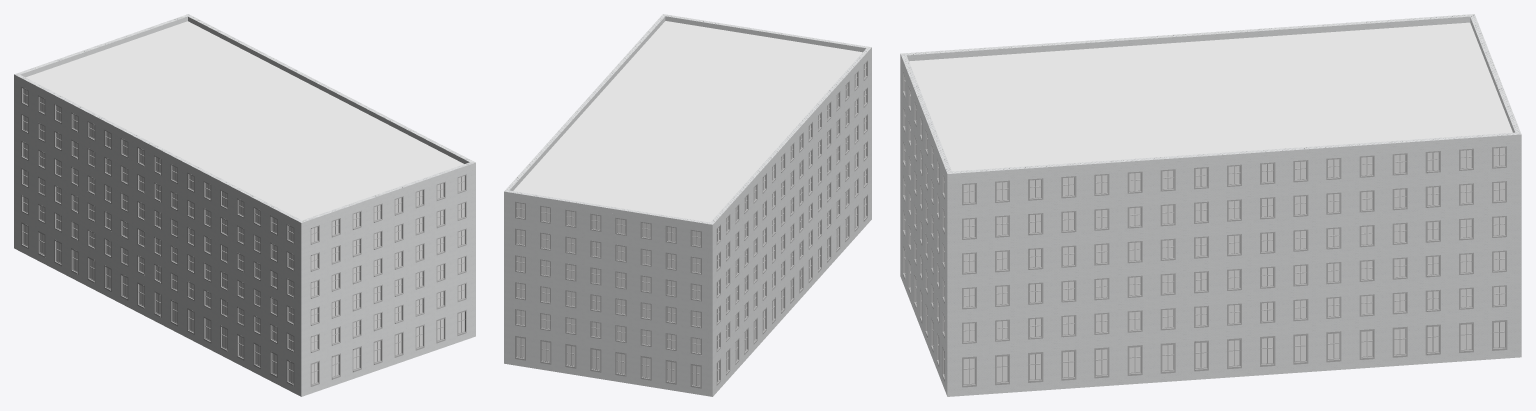
The model's file is clohc2yrv03j94p02eh3l371o_0.glb.
The picture shows the model from 3 angles, left to right: view 1: azimuth 30°, elevation 25°; view 2: azimuth 150°, elevation 25°; view 3: azimuth 270°, elevation 25°; orthographic projection. The views are drawn at different scales.
Parts seen in each view (by area): view 1: mesh_Brick, mesh_CityEnginePBRShader, mesh_Rim, mesh_Glass; view 2: mesh_Brick, mesh_CityEnginePBRShader, mesh_Rim, mesh_Glass; view 3: mesh_Brick, mesh_CityEnginePBRShader, mesh_Rim, mesh_Glass.
Part boxes in pixels (left/top/right/bottom): mesh_Brick: left=14, top=14, right=475, bottom=396; mesh_CityEnginePBRShader: left=26, top=21, right=464, bottom=220; mesh_Rim: left=21, top=87, right=466, bottom=386; mesh_Glass: left=23, top=89, right=464, bottom=383; mesh_Brick: left=504, top=14, right=871, bottom=396; mesh_CityEnginePBRShader: left=513, top=21, right=862, bottom=222; mesh_Rim: left=515, top=60, right=867, bottom=388; mesh_Glass: left=517, top=63, right=865, bottom=385; mesh_Brick: left=900, top=14, right=1521, bottom=396; mesh_CityEnginePBRShader: left=909, top=22, right=1512, bottom=171; mesh_Rim: left=903, top=71, right=1507, bottom=387; mesh_Glass: left=905, top=78, right=1504, bottom=383.
Bounding box in the file's own units: 34.73 × 22.55 × 56.94.
Materials: 4 (1 with a texture image).
